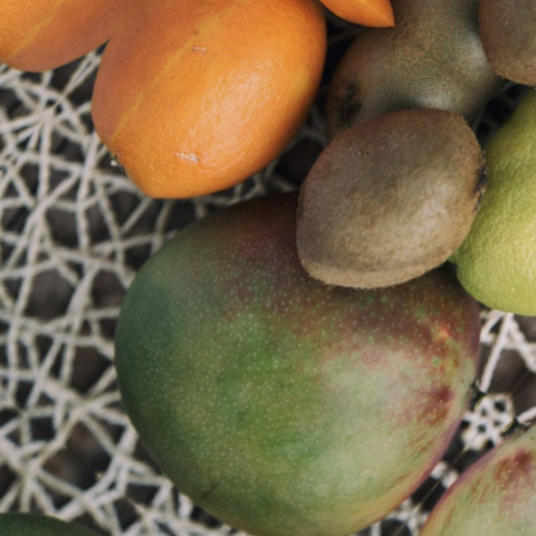kiwi: (13, 98, 536, 536), (252, 62, 523, 342)
orange: (41, 0, 375, 255)
